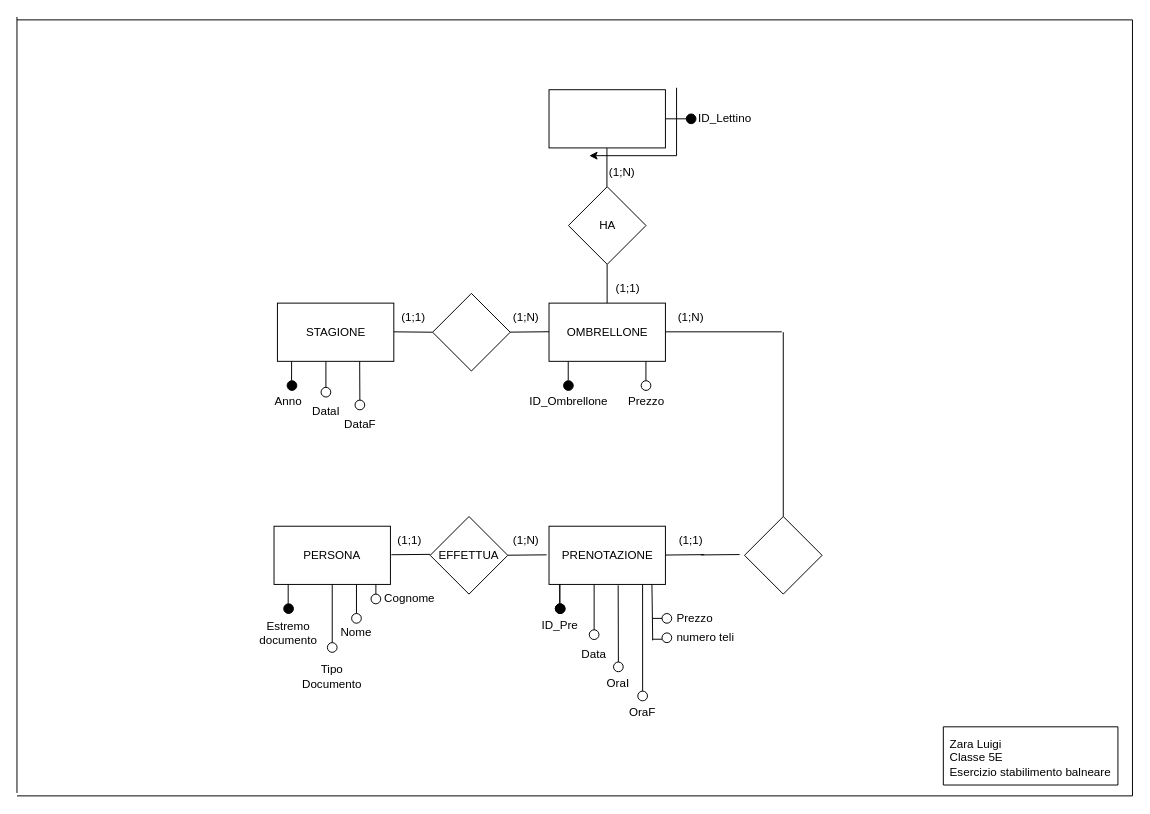
The diagram is 1150 pixels wide and 814 high, and some of its shapes have lost their labels. The shapes that lost their labels are listed below. From the top down, each one's centre as x and y in pixels, then its label:
At pixel 606 118: "LETTINO".
At pixel 471 331: "POSSIEDE".
At pixel 783 555: "NOLEGGIA".
